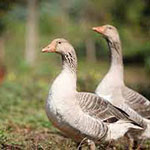geese: (39, 34, 77, 72), (91, 19, 119, 47)
